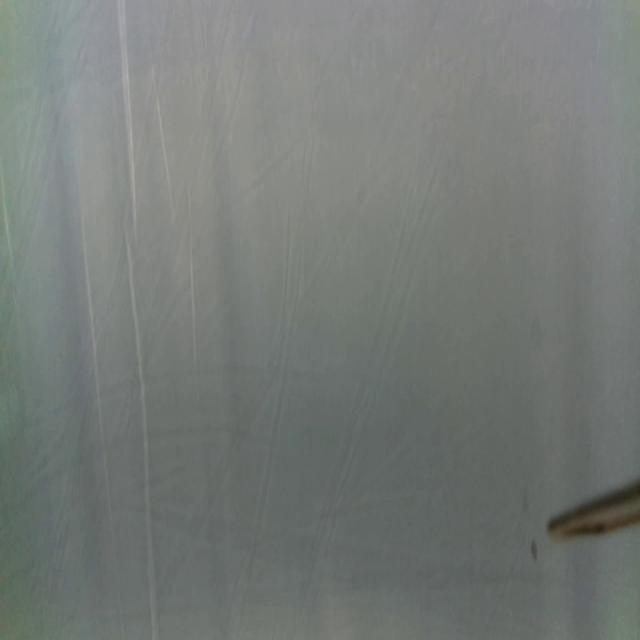crease: (124, 227, 158, 640), (78, 202, 116, 548), (118, 0, 139, 237), (156, 86, 177, 230), (187, 185, 198, 364), (0, 157, 15, 263)
